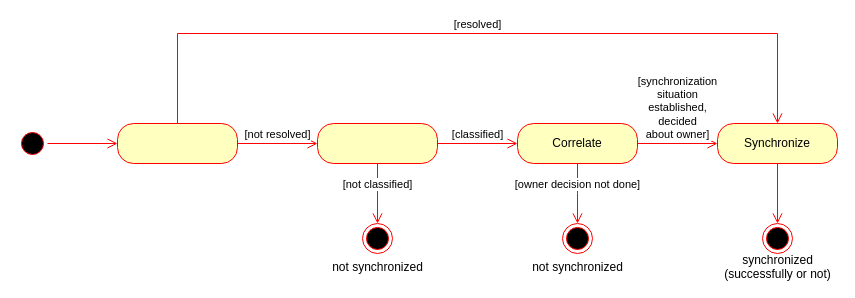
The diagram is 855 pixels wide and 298 high, and some of its shapes have lost their labels. The box of each missing label's shape, as (x1, y1, x2, y2) in pixels:
Apply sorter (if present): (116, 122, 238, 164)
Classify: (316, 122, 438, 164)
